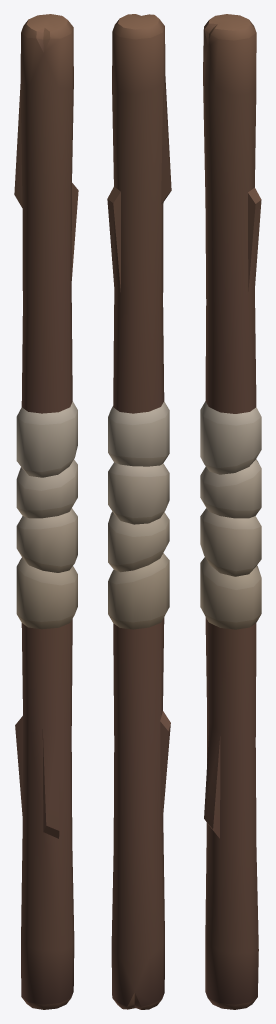
File: XW_staff_A.glb
3 views of the same model, side by side, from view 1: azimuth 30°, elevation 25°; view 2: azimuth 210°, elevation 25°; view 3: azimuth 330°, elevation 25° (orthographic).
Parts seen in each view (by area): view 1: staff_A; view 2: staff_A; view 3: staff_A.
Boxes of the visible parts, x1,y1,x2,y2 form: staff_A: [14, 14, 78, 1009]; staff_A: [107, 14, 171, 1009]; staff_A: [200, 14, 261, 1009].
Bounding box in the file's own units: 0.1249 × 2.15 × 0.1115.
